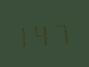four: (36, 20, 52, 46)
one: (18, 21, 34, 47)
seven: (53, 19, 69, 45)
